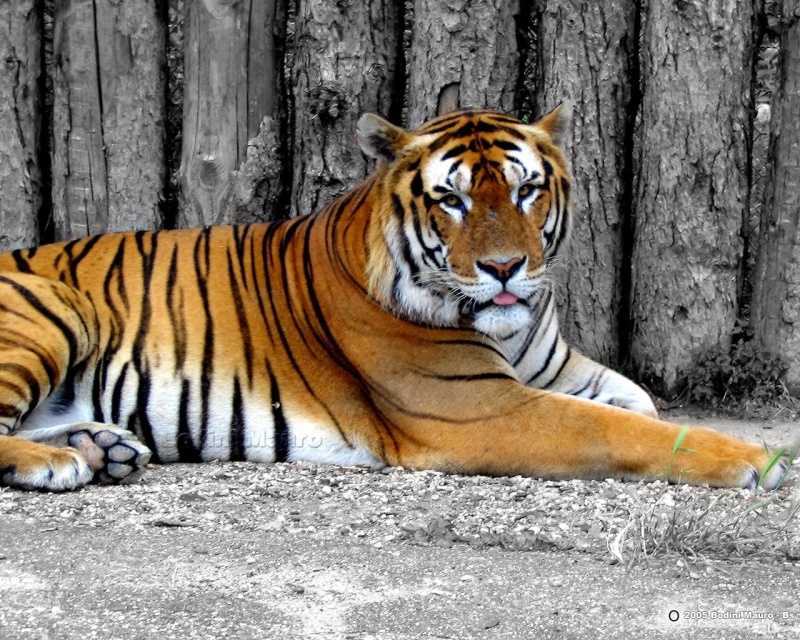tigre: (0, 99, 795, 493)
